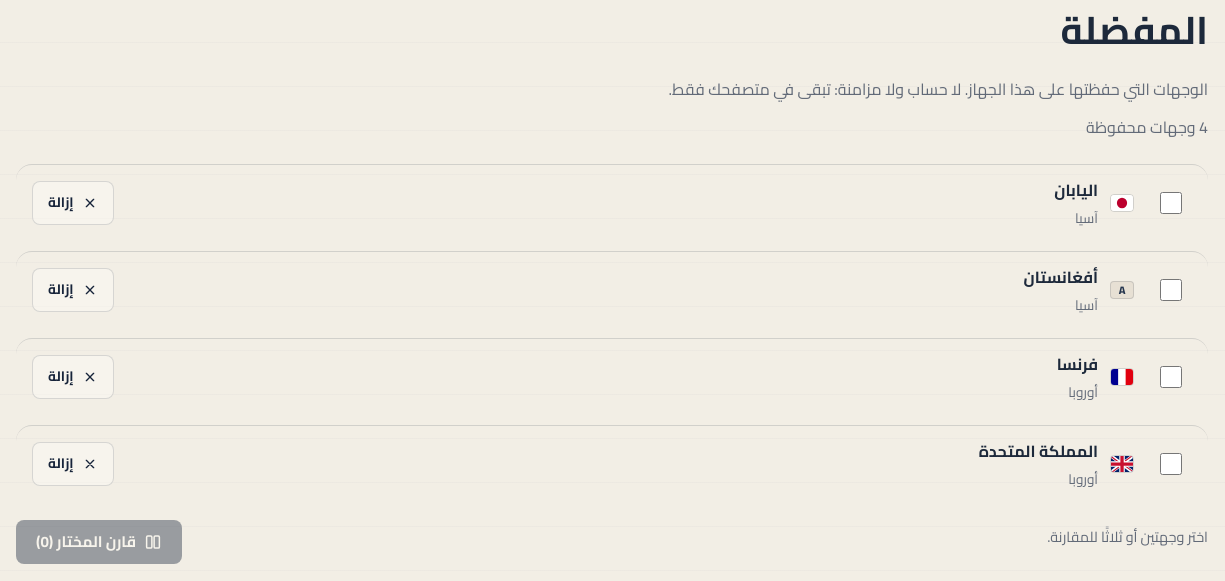
Test: Favorites page › disables a fourth selection
Click the checkbox named "اختر اليابان للمقارنة": point(1170, 203) [1160,192,1182,214]
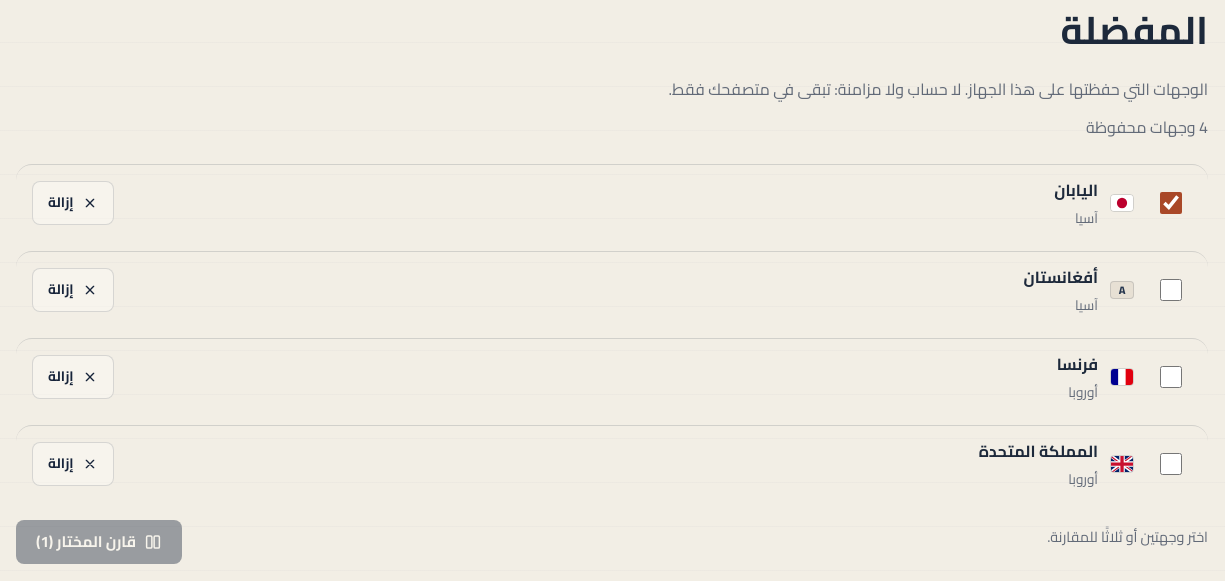
Click the checkbox named "اختر أفغانستان للمقارنة": point(1170, 290) [1160,279,1182,301]
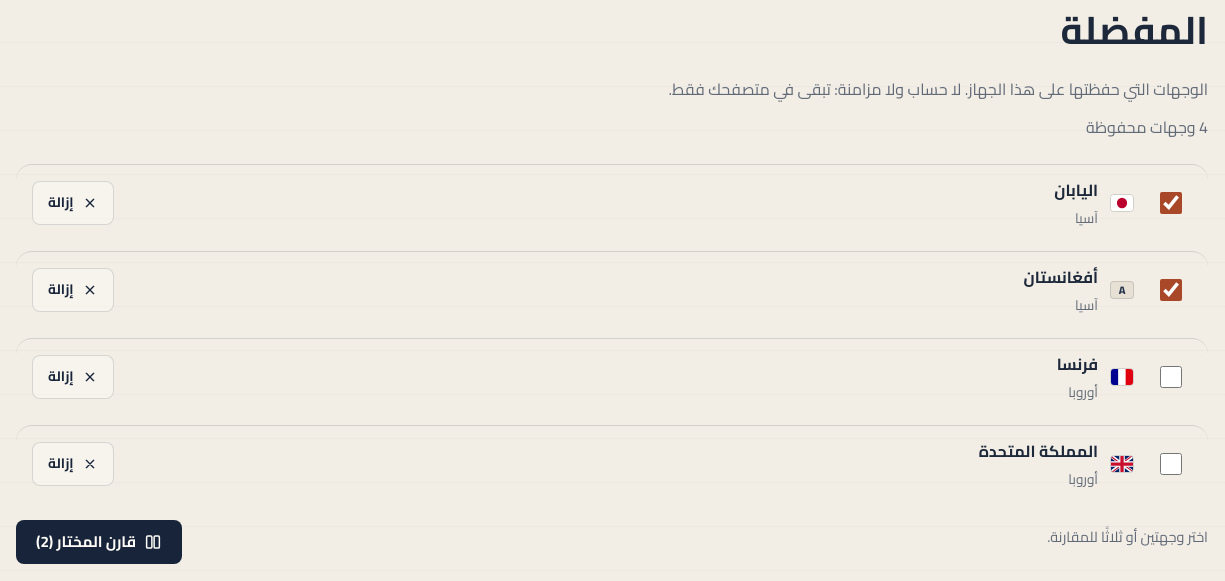
Click the checkbox named "اختر فرنسا للمقارنة": point(1170, 377) [1160,366,1182,388]
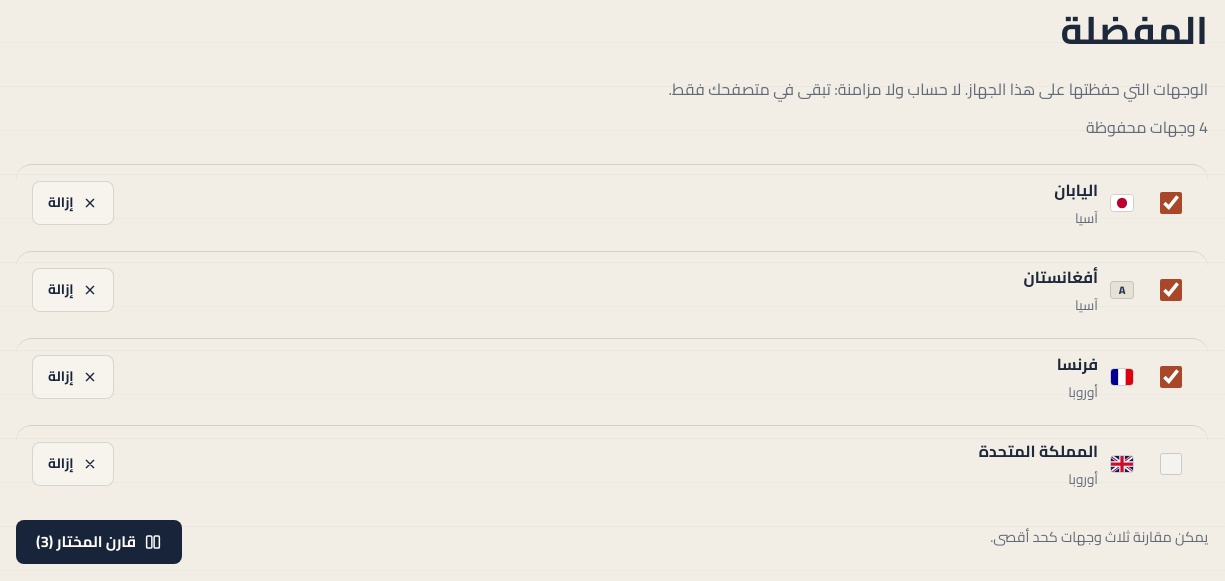
Result: the checkbox named "اختر المملكة المتحدة للمقارنة" is disabled at [1160,453,1182,475]
